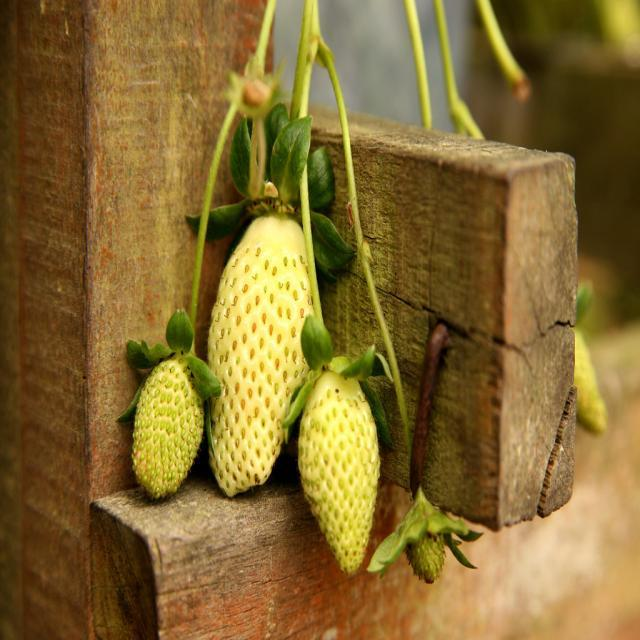unripe: (208, 215, 318, 498), (299, 362, 380, 568), (134, 353, 204, 490), (408, 504, 446, 582)
